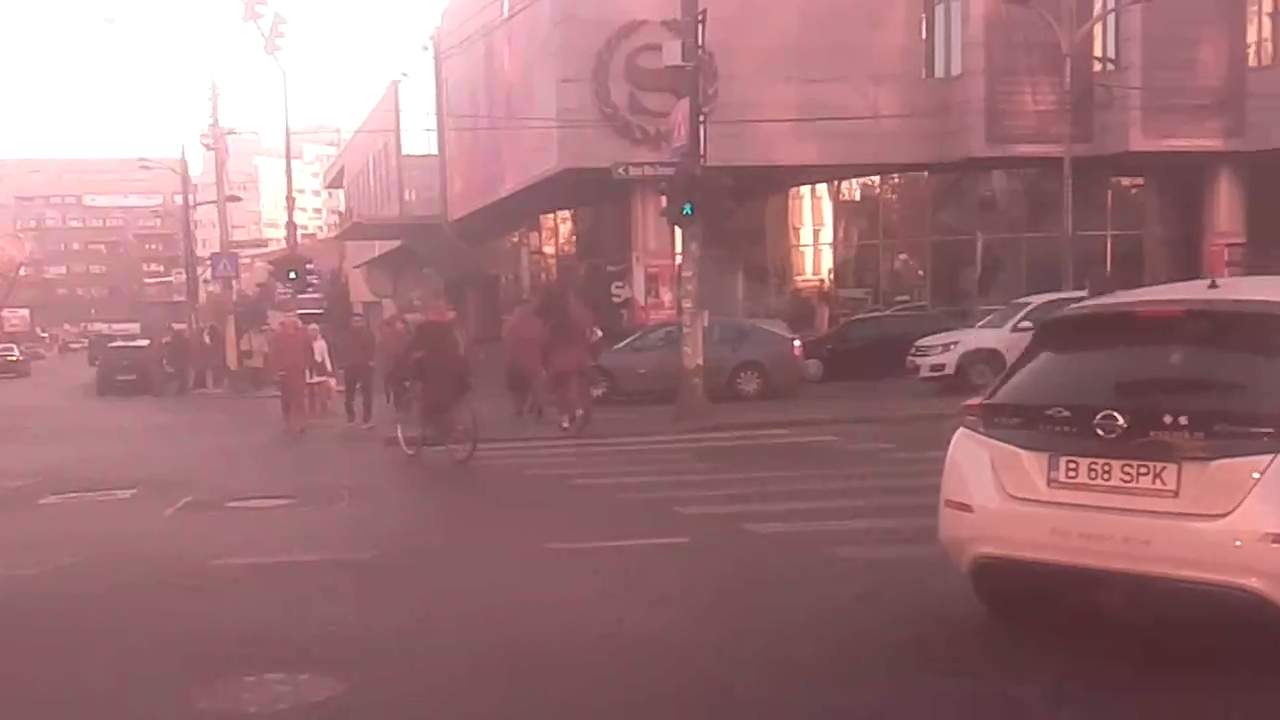license-plate: (1041, 447, 1186, 499)
